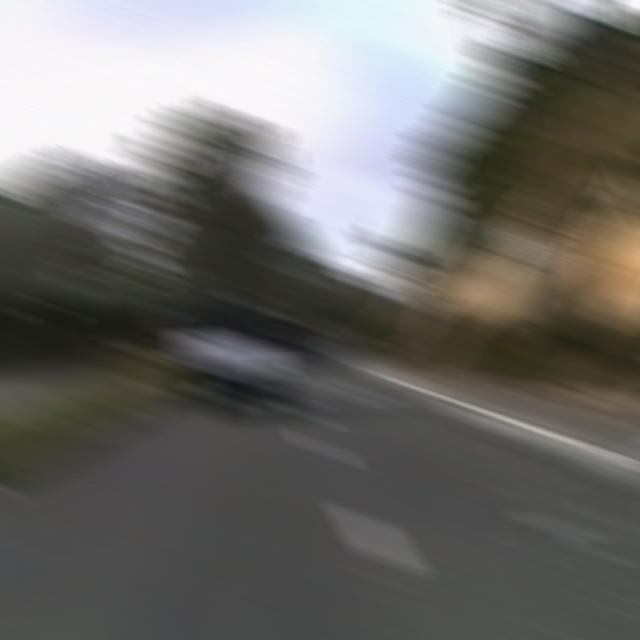speedLimit40: (489, 225, 533, 270)
